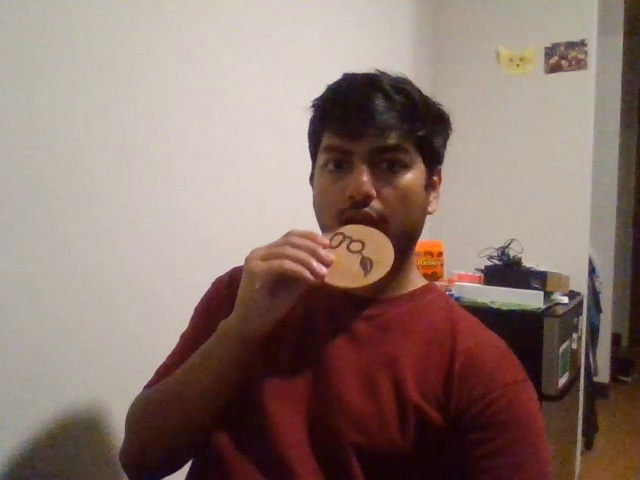donut: (295, 285, 378, 378)
